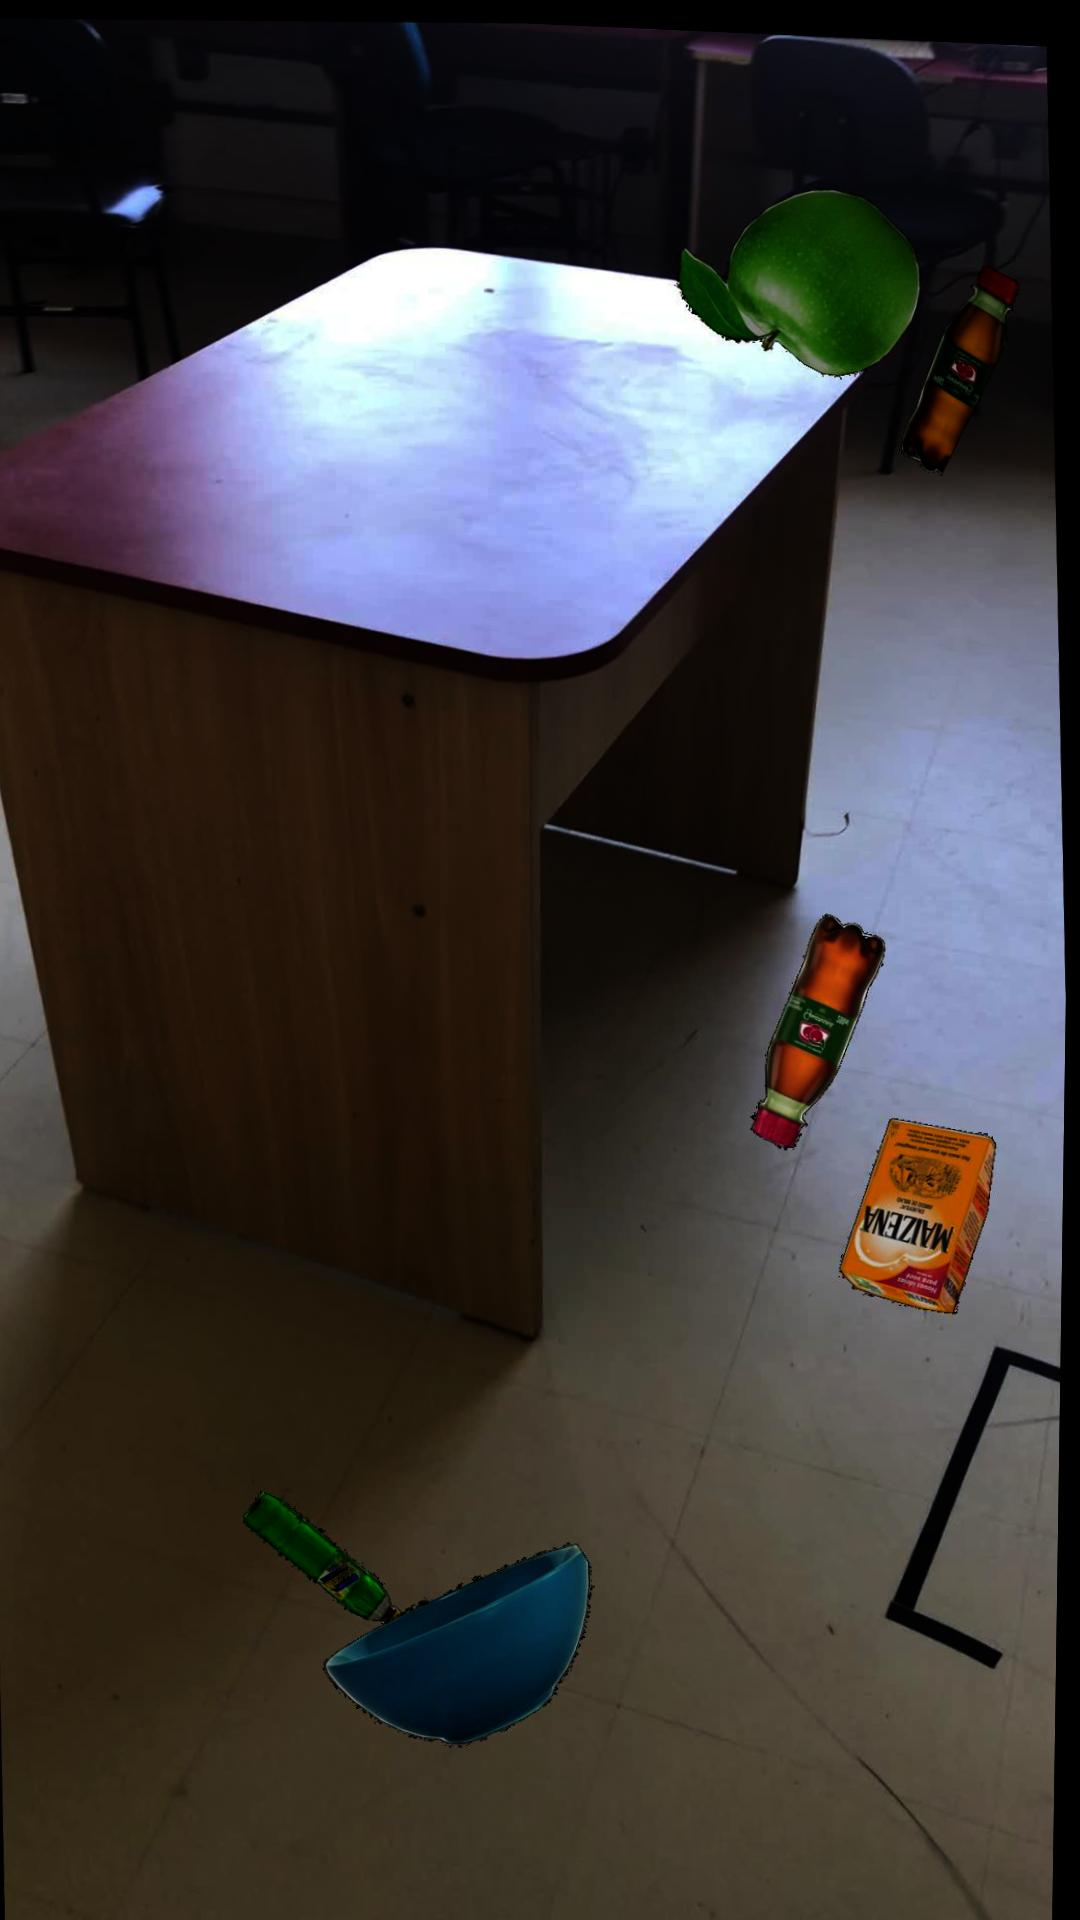bowl: (330, 1536, 597, 1738)
cleaner: (249, 1487, 407, 1619)
green apple: (676, 179, 923, 367)
guarana: (756, 906, 889, 1142), (903, 255, 1022, 465)
